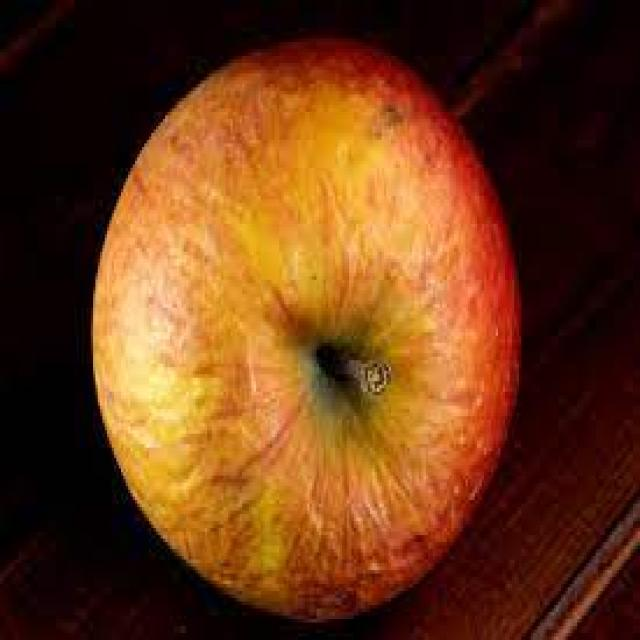overripe: (91, 33, 528, 630)
